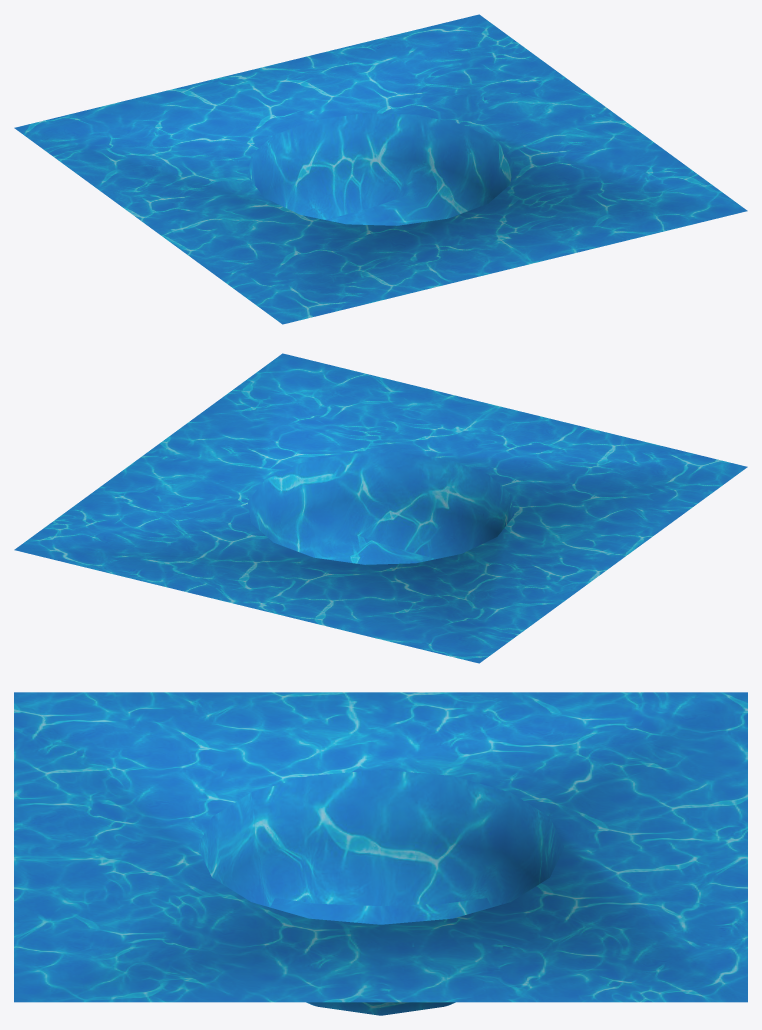
The model's file is WaterHole.fbx.
The picture shows the model from 3 angles, top to bottom: view 1: azimuth 30°, elevation 25°; view 2: azimuth 150°, elevation 25°; view 3: azimuth 270°, elevation 25°; orthographic projection. The views are drawn at different scales.
Parts seen in each view (by area): view 1: WaterHole; view 2: WaterHole; view 3: WaterHole.
Boxes of the visible parts, left/top/right/bottom form: WaterHole: left=14, top=14, right=747, bottom=324; WaterHole: left=14, top=353, right=747, bottom=663; WaterHole: left=14, top=692, right=747, bottom=1015.
Bounding box in the file's own units: 800 × 166 × 800.
